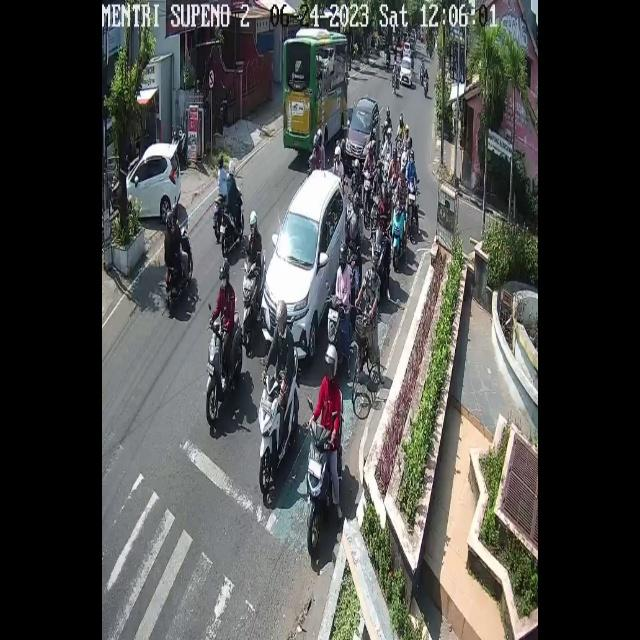bus: (258, 346, 300, 493), (305, 419, 342, 554), (206, 310, 244, 432), (166, 228, 193, 313), (239, 260, 262, 348), (324, 293, 347, 378), (219, 198, 246, 258), (371, 228, 392, 284), (390, 203, 408, 265), (404, 180, 418, 243), (361, 169, 374, 218), (398, 145, 410, 173), (318, 148, 332, 170), (423, 76, 429, 98)
car: (283, 27, 349, 152)
motorcycle: (261, 168, 347, 362), (126, 142, 181, 224), (343, 98, 379, 168), (401, 56, 414, 86)
